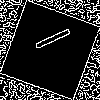I: (25, 25, 72, 57)
